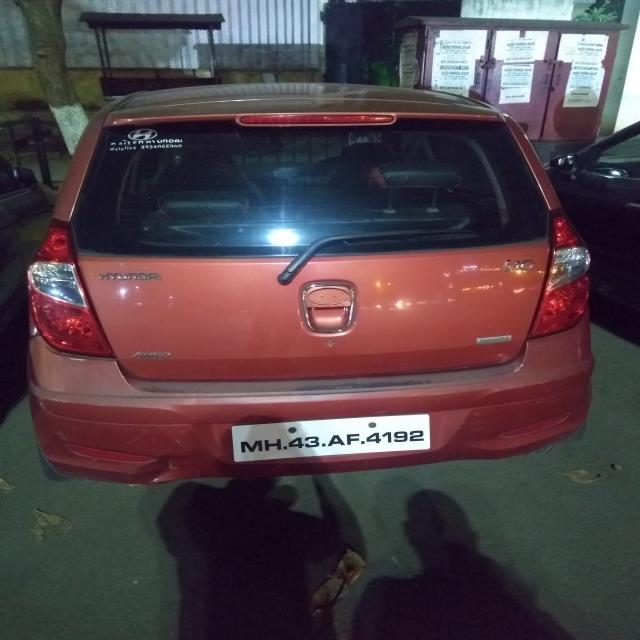Number-Plate: (234, 419, 434, 458)
